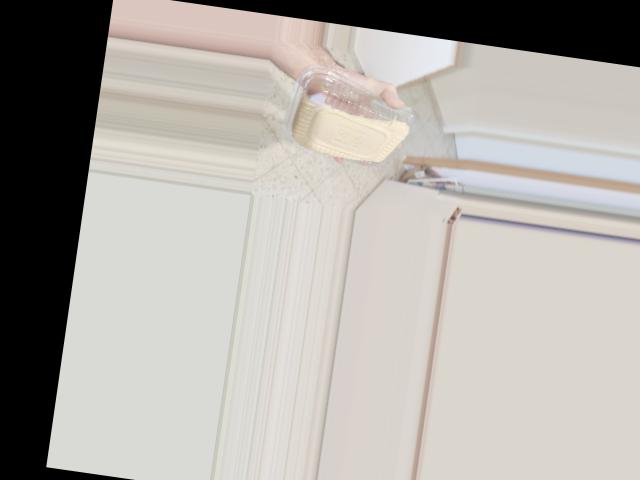cheese: (275, 85, 388, 153)
